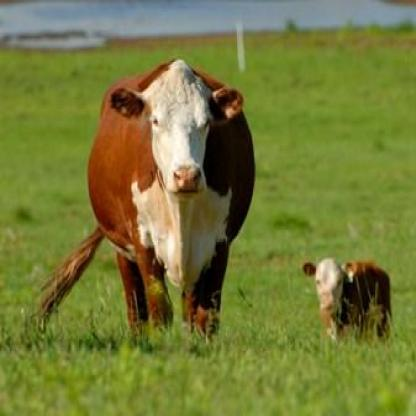cow: (39, 61, 256, 340), (302, 259, 392, 342)
